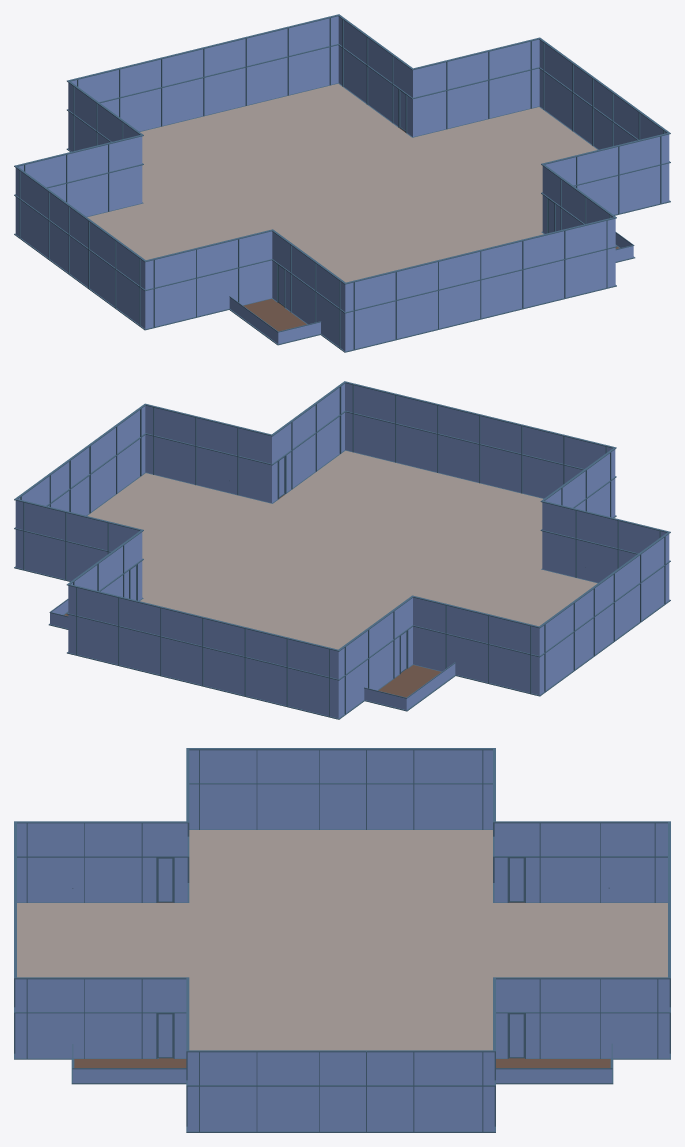
File: 27. Floor plans 27TH Floor.glb
The picture shows the model from 3 angles, top to bottom: view 1: azimuth 30°, elevation 25°; view 2: azimuth 150°, elevation 25°; view 3: azimuth 270°, elevation 25°; orthographic projection. The views are drawn at different scales.
Visible parts, largest first — view 1: Floor plans 27TH Window Glass, Floor plans 27TH (1), Floor plans 27TH Window Joinery; view 2: Floor plans 27TH Window Glass, Floor plans 27TH (1), Floor plans 27TH Window Joinery; view 3: Floor plans 27TH Window Glass, Floor plans 27TH (1), Floor plans 27TH Window Joinery.
Boxes of the visible parts, x1=… form: Floor plans 27TH Window Glass: x1=15, y1=16, x2=669, y2=351; Floor plans 27TH (1): x1=87, y1=83, x2=635, y2=345; Floor plans 27TH Window Joinery: x1=14, y1=14, x2=670, y2=352; Floor plans 27TH Window Glass: x1=15, y1=383, x2=669, y2=718; Floor plans 27TH (1): x1=48, y1=450, x2=597, y2=711; Floor plans 27TH Window Joinery: x1=14, y1=381, x2=670, y2=719; Floor plans 27TH Window Glass: x1=15, y1=750, x2=669, y2=1131; Floor plans 27TH (1): x1=17, y1=830, x2=667, y2=1084; Floor plans 27TH Window Joinery: x1=14, y1=748, x2=670, y2=1132.
Bounding box in the file's own units: 38.04 × 4.76 × 34.82.
